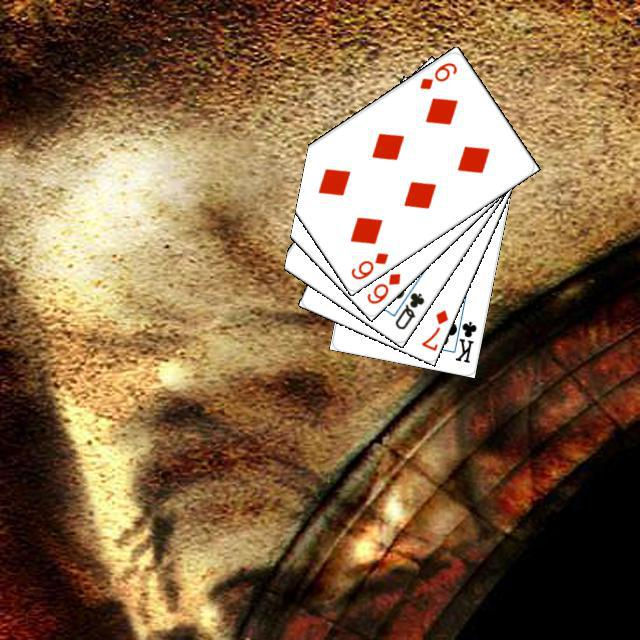6d: (346, 247, 390, 282), (414, 57, 459, 91), (362, 268, 402, 306)
7d: (416, 305, 450, 352)
Kc: (447, 310, 478, 365)
Qc: (386, 279, 426, 331)
